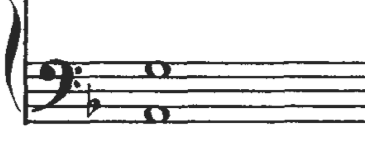bass_clef: (34, 55, 83, 120)
flat: (83, 81, 104, 119)
